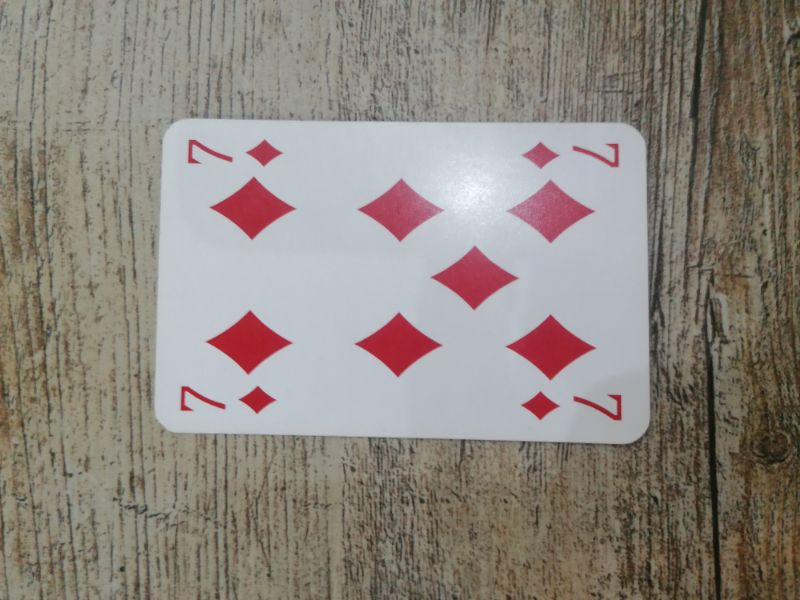7d: (182, 130, 290, 174), (519, 385, 628, 426), (520, 133, 624, 175), (177, 377, 281, 419)
